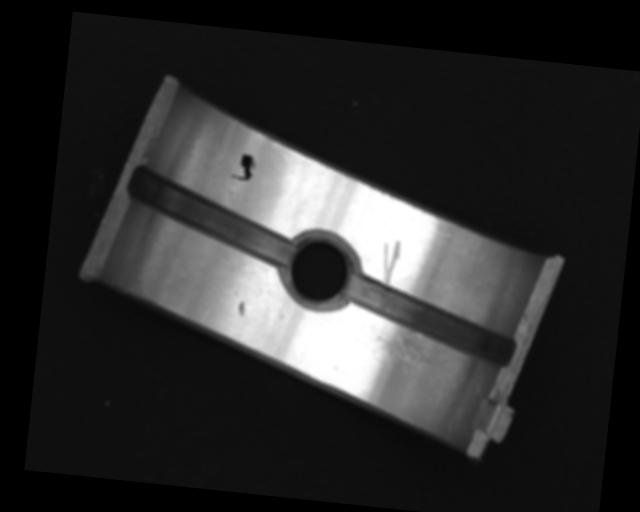blot: (230, 151, 257, 182)
bruise: (237, 298, 246, 318)
gap: (121, 167, 300, 268), (342, 273, 520, 366)
hole: (277, 228, 362, 312)
nick: (379, 239, 402, 288)
scratch: (356, 322, 465, 388)
